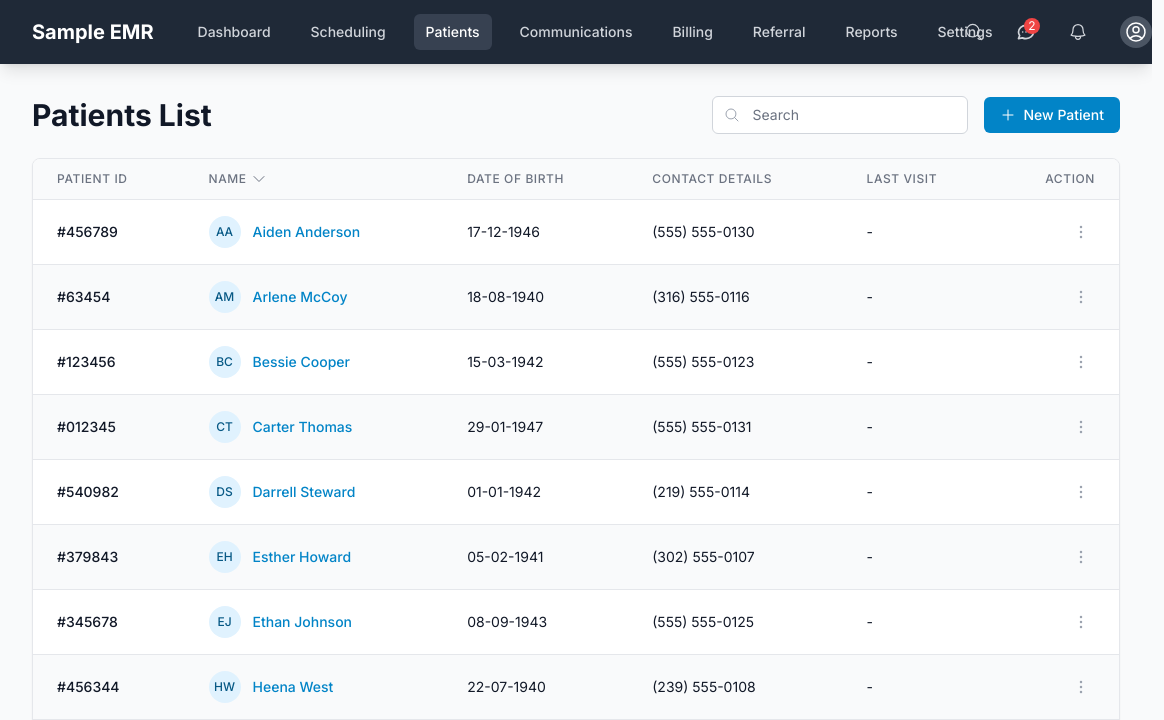
PatientDashboard › handles search functionality
Check: the button "Heena West" is shown, box [252,677,333,697]
Check: the button "Arlene McCoy" is shown, box [252,287,348,307]
Search for a specific patient
In the field with placeholder "Search": (840, 115) [712,96,968,134], type "Heena"
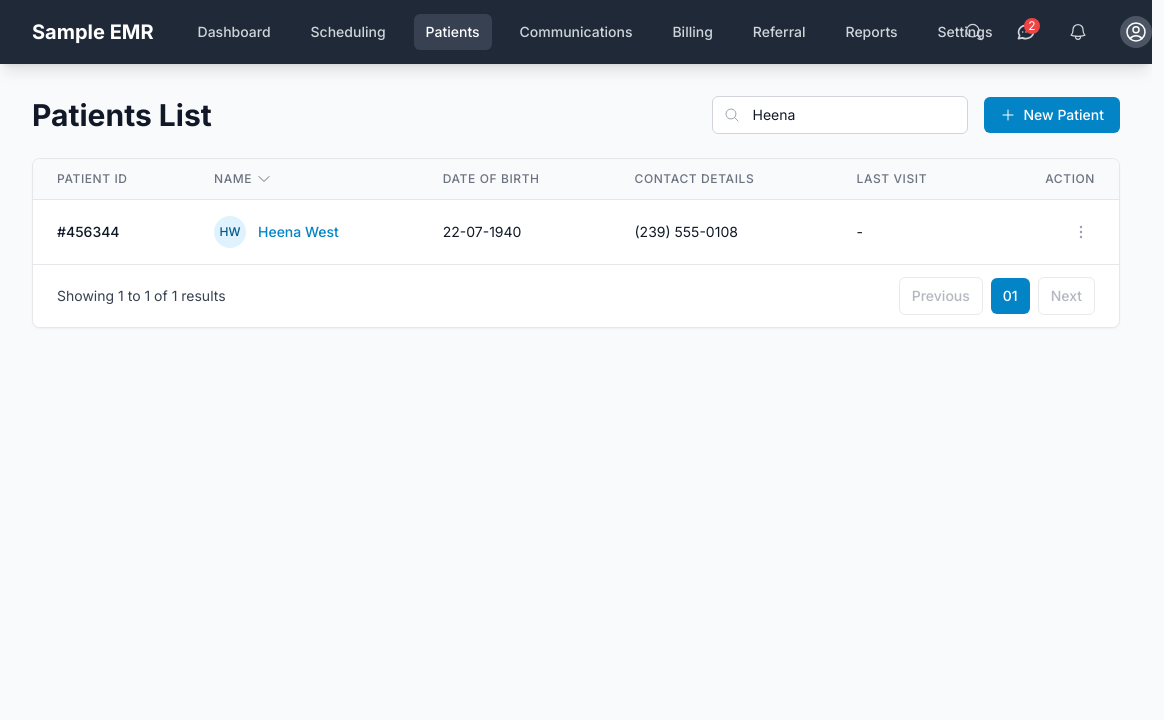
Check: the button "Heena West" is shown, box [258,222,339,242]
Search for non-existent patient
Replace the text in the field with placeholder "Search" with "NonExistent": (840, 115) [712,96,968,134]
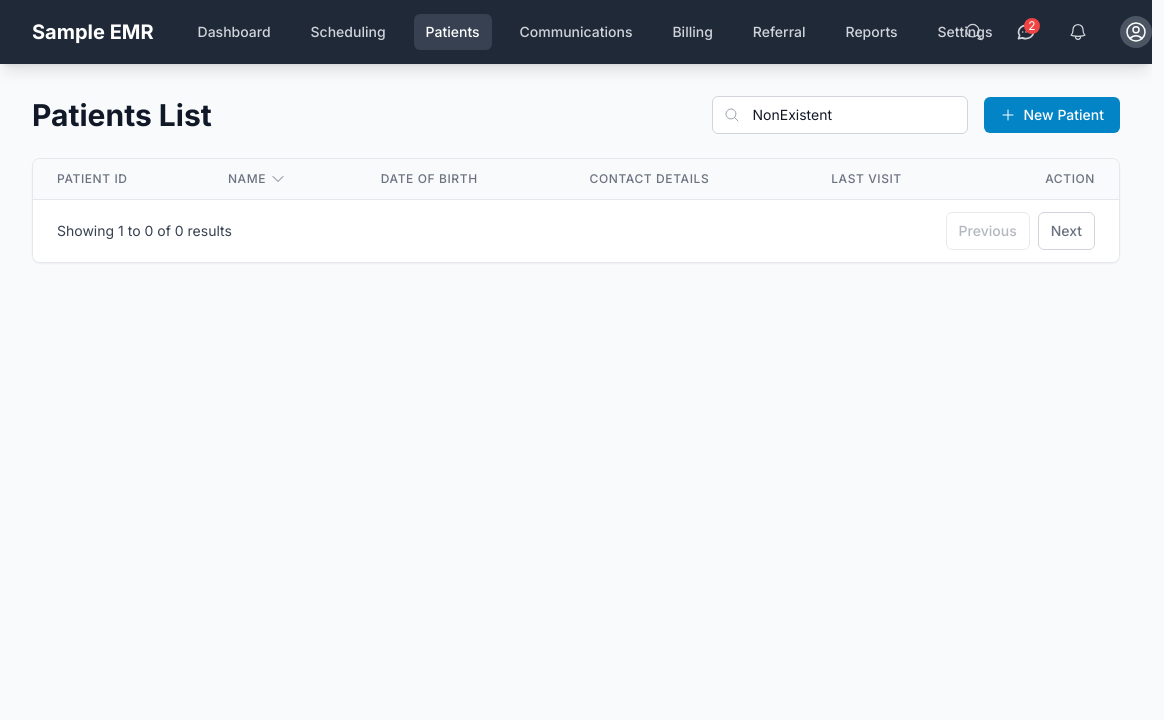
Check: the button "Heena West" is gone
